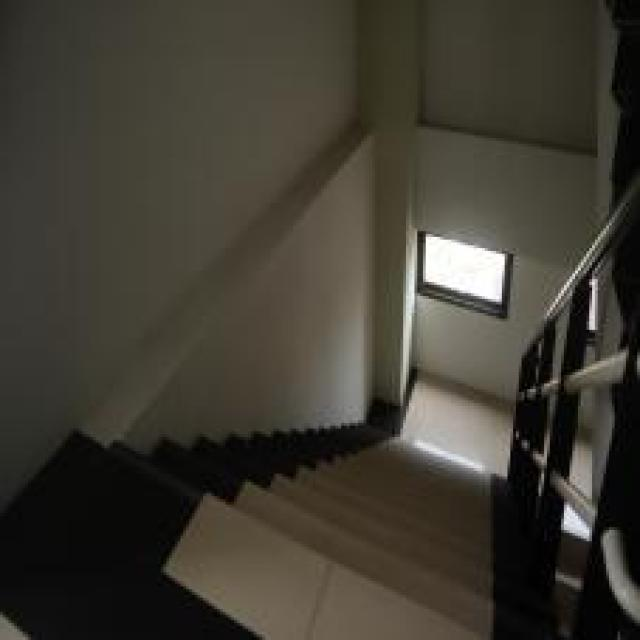downstair: (210, 466, 463, 624)
